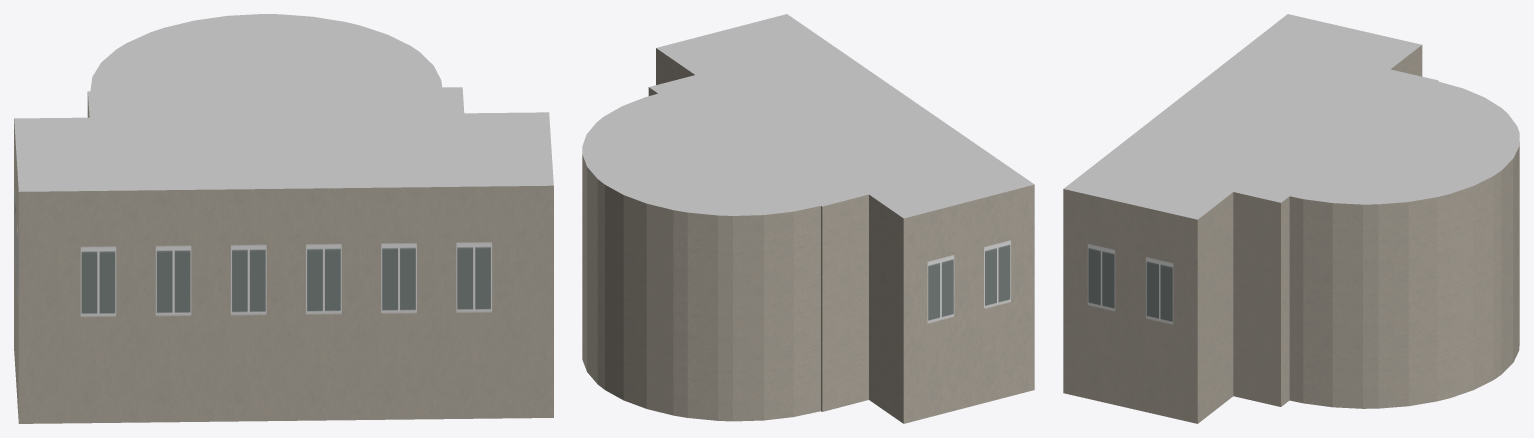
The model's file is building-1-0-209.dae.
3 renders of one model, left to right at view 1: azimuth 30°, elevation 25°; view 2: azimuth 150°, elevation 25°; view 3: azimuth 270°, elevation 25°, orthographic. The views are drawn at different scales.
Visible parts, largest first — view 1: geopipeinodepHrVrv1F (×3); view 2: geopipeinodepHrVrv1F (×3); view 3: geopipeinodepHrVrv1F (×3).
Boxes of the visible parts, left/top/right/bottom form: geopipeinodepHrVrv1F (×3): left=14, top=14, right=553, bottom=423; geopipeinodepHrVrv1F (×3): left=582, top=14, right=1034, bottom=423; geopipeinodepHrVrv1F (×3): left=1063, top=14, right=1519, bottom=423.
Bounding box in the file's own units: 20.52 × 19.23 × 9.5.
